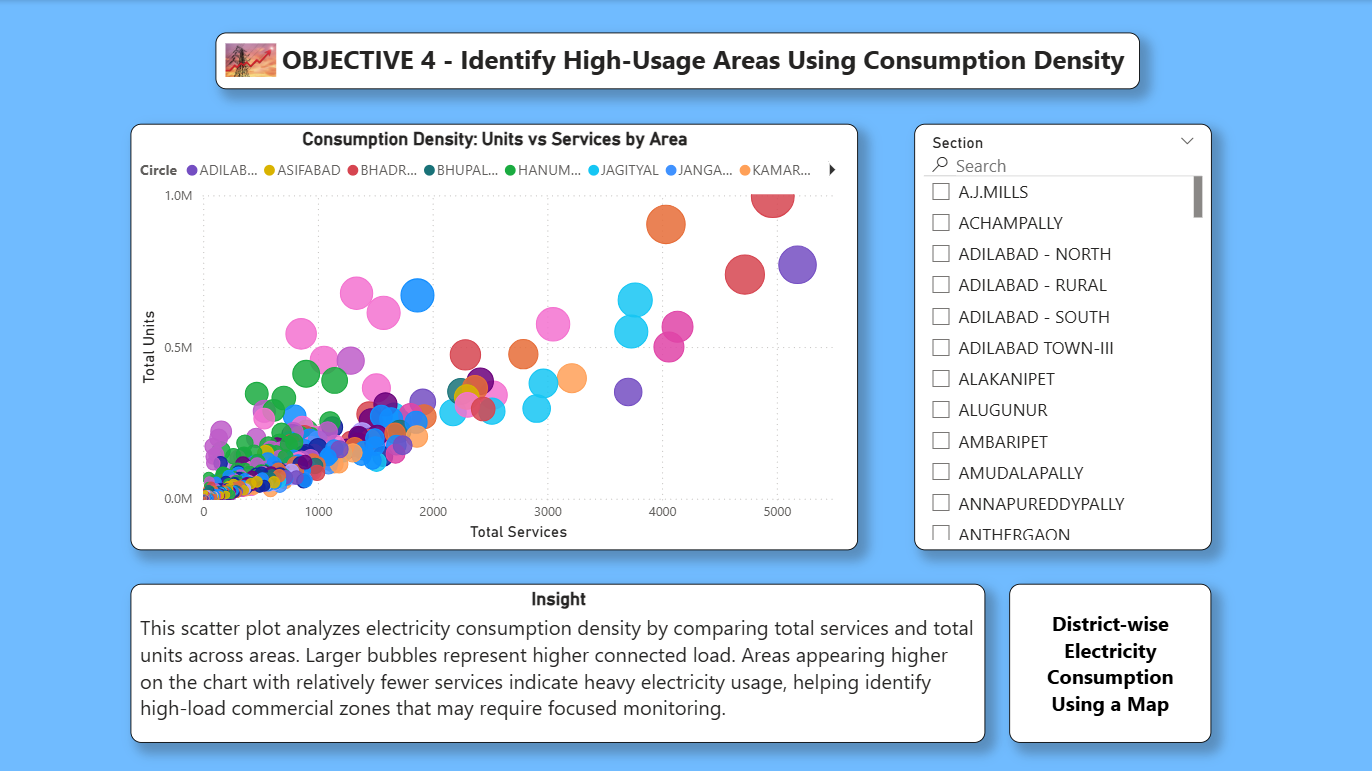

This screenshot's page, from the dashboard's own definition file:
{"tool":"powerbi","page":{"name":"High Usage","canvas":[1280,720],"ordinal":5},"visuals":[{"type":"textbox","box":[202.5,30,860,52.5],"z":0},{"type":"scatterChart","title":"Consumption Density: Units vs Services by Area","fields":{"X":["TG-NPDCL_consumption_detail_commercial_OCTOBER-2025.Total Services"],"Y":["TG-NPDCL_consumption_detail_commercial_OCTOBER-2025.Total Units"],"Series":["TG-NPDCL_consumption_detail_commercial_OCTOBER-2025.Circle"],"Size":["Sum(TG-NPDCL_consumption_detail_commercial_OCTOBER-2025.Load)"],"Category":["TG-NPDCL_consumption_detail_commercial_OCTOBER-2025.Area"]},"box":[123.3,115.1,676.7,396.5],"z":1000},{"type":"slicer","fields":{"Values":["TG-NPDCL_consumption_detail_commercial_OCTOBER-2025.Section"]},"box":[852.3,115.1,276.7,396.5],"z":2000},{"type":"textbox","title":"Insight","box":[123.3,543,795.4,147.7],"z":3000},{"type":"actionButton","box":[940.7,543,188.4,147.7],"z":4000},{"type":"image","box":[211.2,40,47.1,32.9],"z":5000}]}

Visuals, with their boxes in screenshot pixels (x1, y1, x2, y2), scaled from the page's 1280x720 canvas onto the 1372x771 screenshot:
textbox: 217, 32, 1139, 88
"Consumption Density: Units vs Services by Area" scatterChart: 132, 123, 857, 548
slicer - TG-NPDCL_consumption_detail_commercial_OCTOBER-2025.Section: 914, 123, 1210, 548
"Insight" textbox: 132, 581, 985, 740
actionButton: 1008, 581, 1210, 740
image: 226, 43, 277, 78
